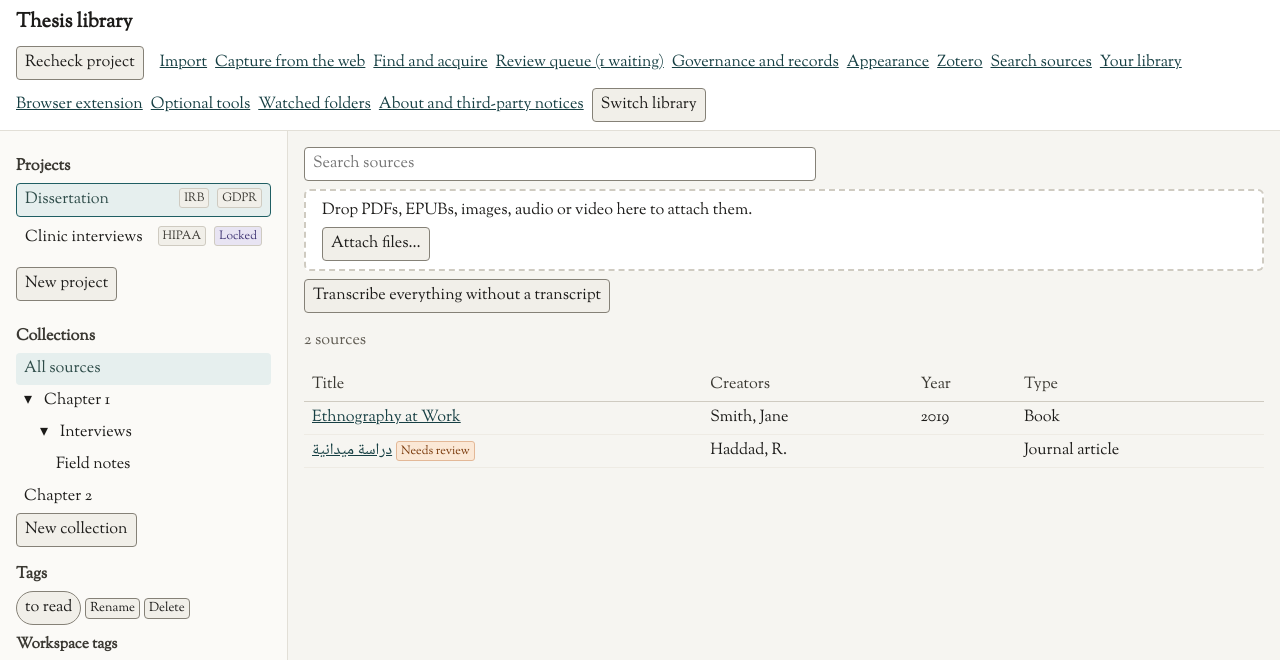
Test: the app's one router (R118) › the Import link in the library opens the wizard for the selected project
Click the link "Import".
click(183, 63)  # box [160, 51, 207, 75]
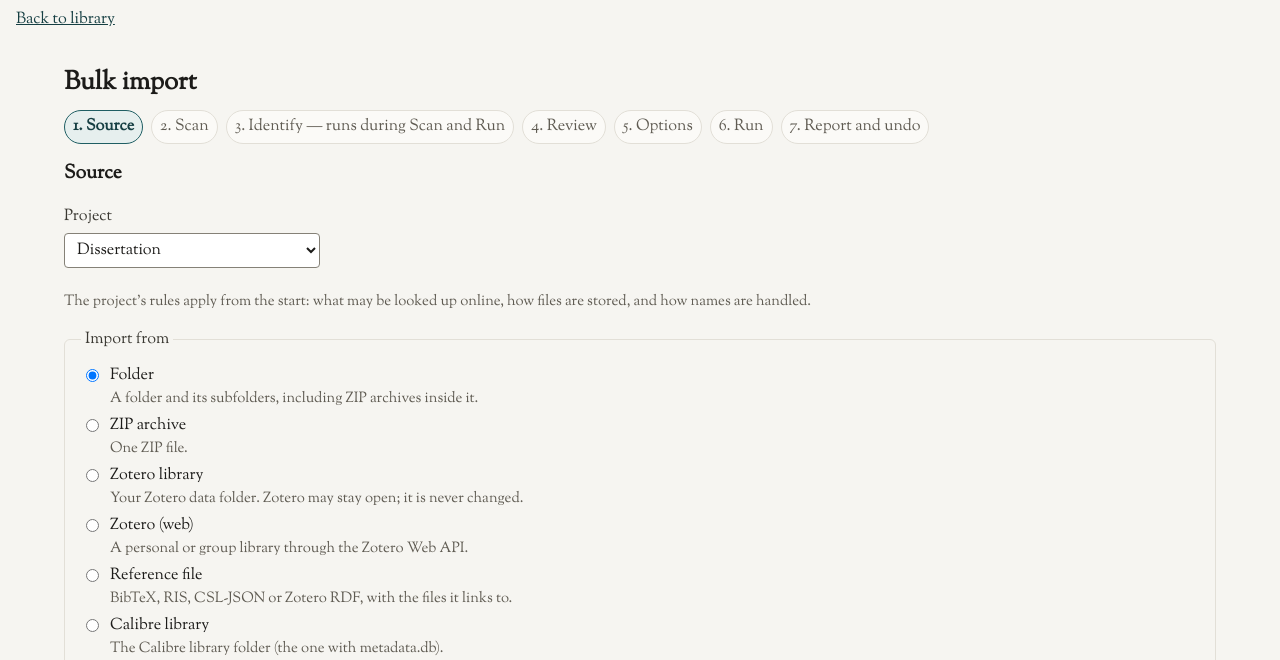
Result: the link "Back to library" is shown at [16, 8, 115, 31]
